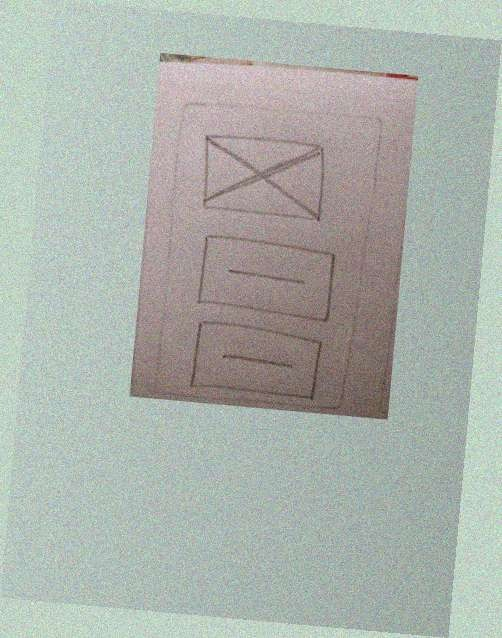button: (189, 227, 343, 328), (184, 318, 327, 405)
image: (192, 123, 332, 229)
